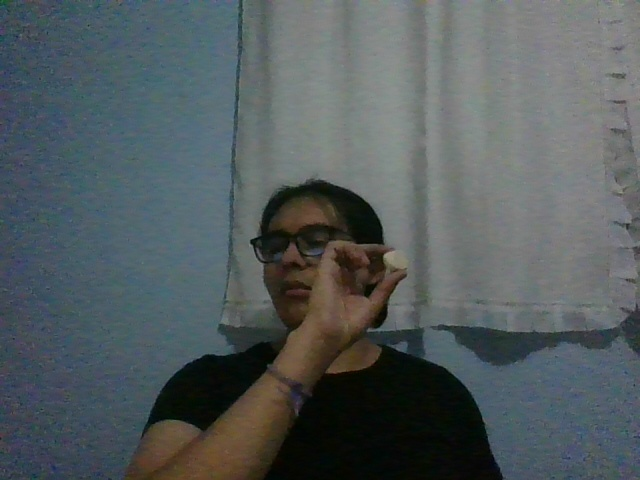goma: (382, 251, 408, 271)
